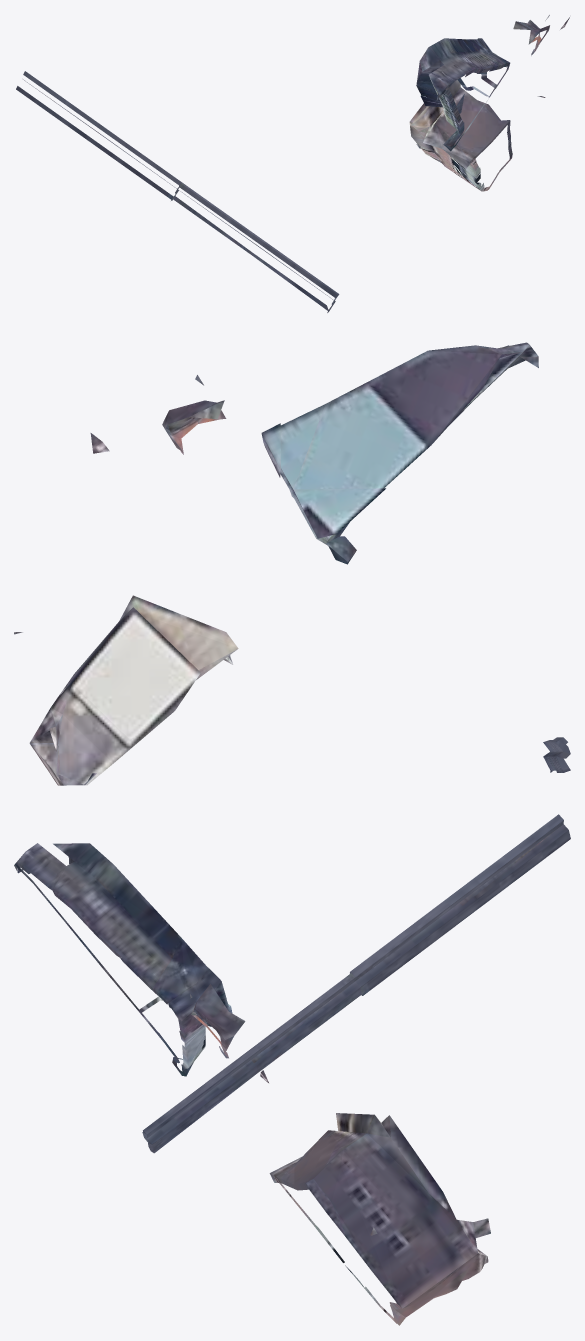
3 views of the same model, one above another, from view 1: azimuth 30°, elevation 25°; view 2: azimuth 150°, elevation 25°; view 3: azimuth 270°, elevation 25° (orthographic). The views are drawn at different scales.
Bounding box in the file's own units: 49.3 × 27.41 × 37.66.
1 material, 1 textured.
